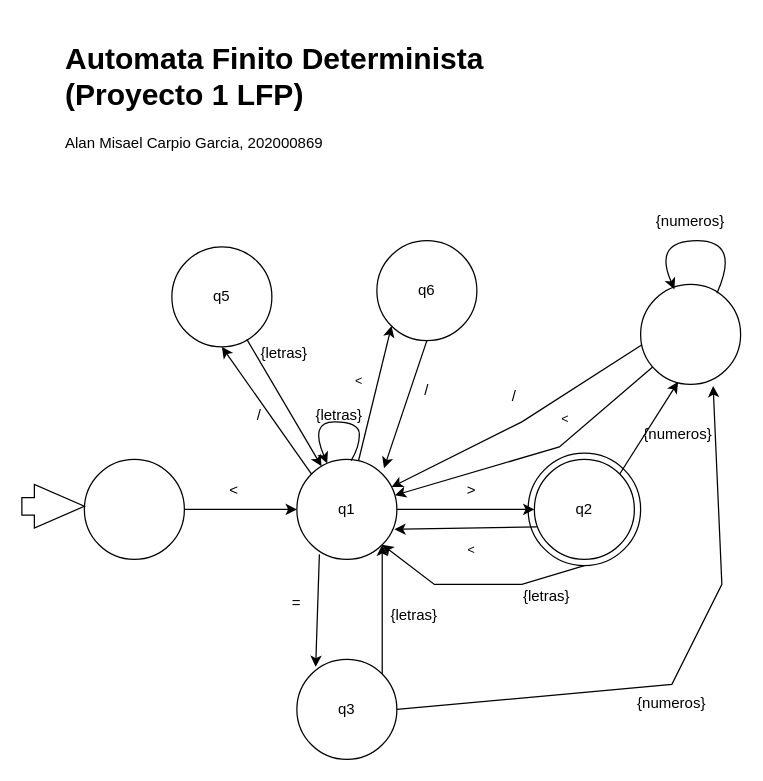
The diagram is 763 pixels wide and 781 high, and some of its shapes have lost their labels. The shapes that lost their labels are listed below. From the top down, each one's box as (x1, y1, x2, y2) in pixels, then its label:
(639, 283, 741, 384): q4
(83, 458, 184, 559): q0
